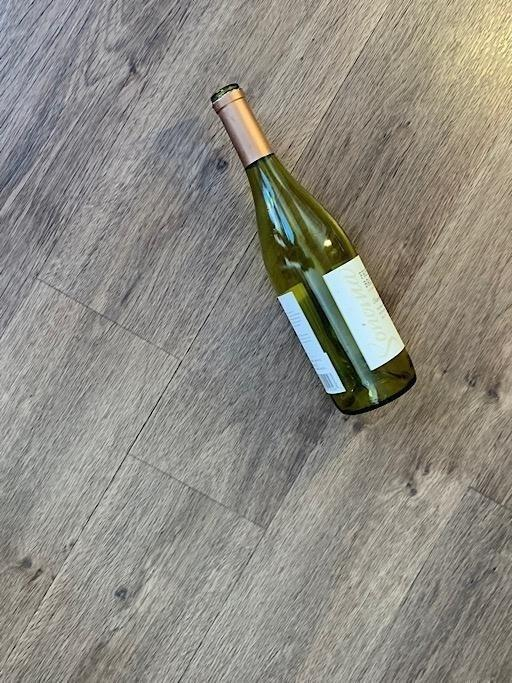bottle-glass: (208, 80, 419, 416)
